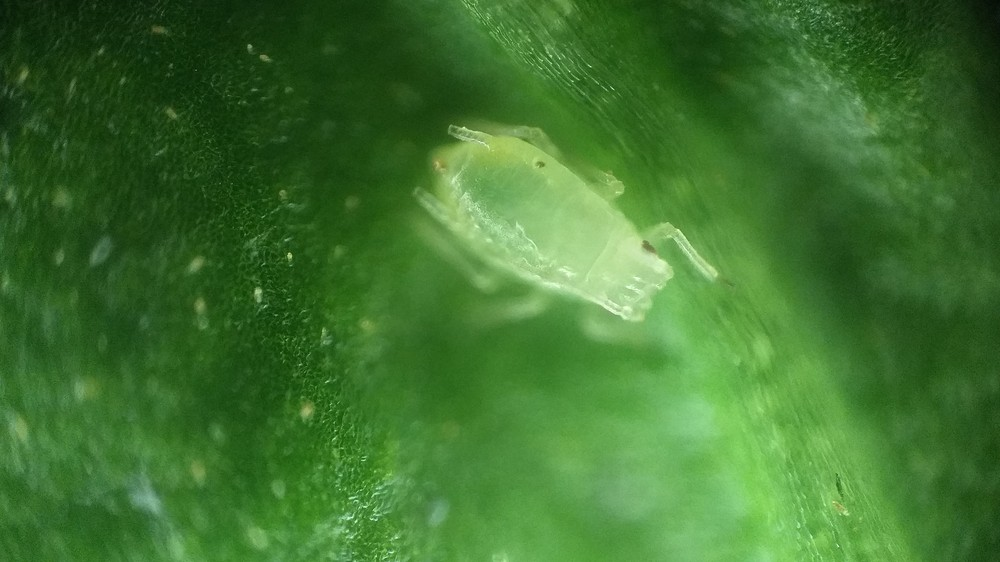Pulgon: (378, 97, 739, 387)
